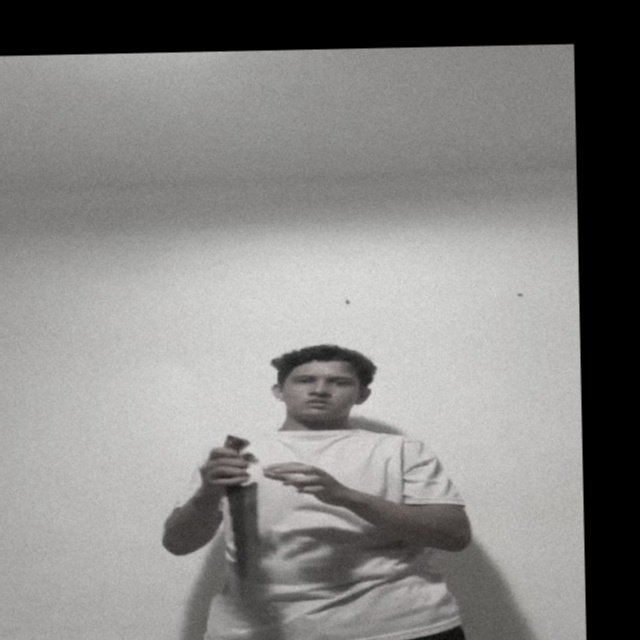Sharp-Object: (227, 484, 258, 580)
